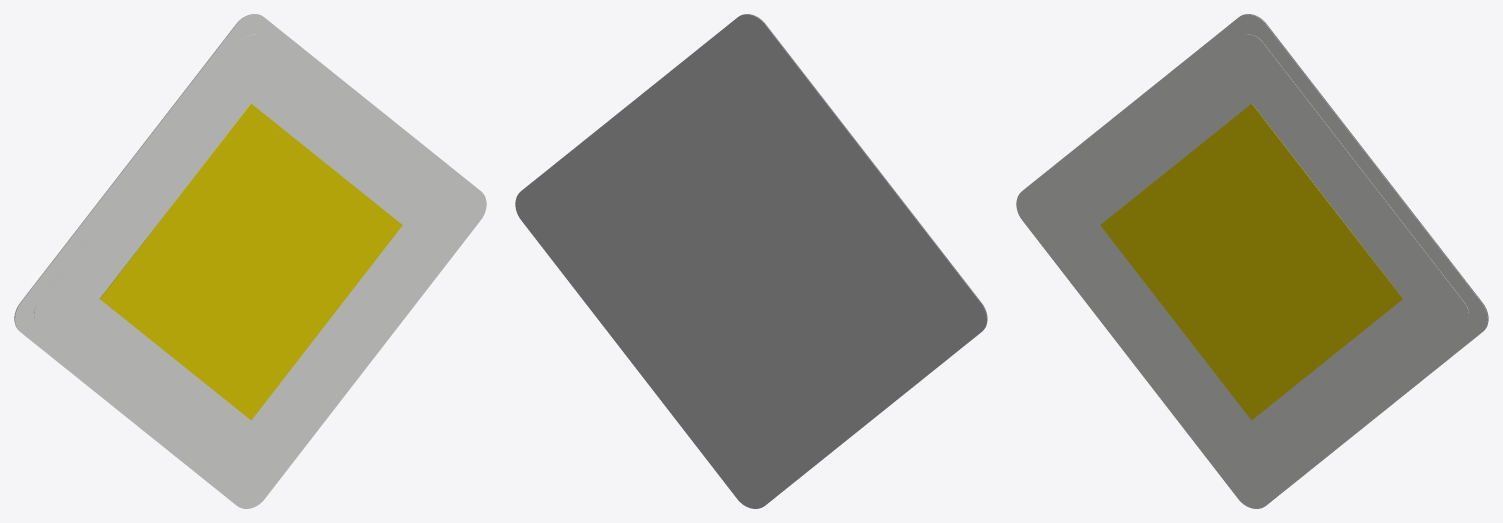
3 renders of one model, left to right at view 1: azimuth 30°, elevation 25°; view 2: azimuth 150°, elevation 25°; view 3: azimuth 330°, elevation 25°, orthographic.
Visible parts, largest first — view 1: AB6_p01, AB6_p03, AB6_p00; view 2: AB6_dos; view 3: AB6_p01, AB6_p03, AB6_p00.
Boxes of the visible parts, left/top/right/bottom form: AB6_p01: left=34, top=34, right=467, bottom=489; AB6_p03: left=100, top=103, right=402, bottom=420; AB6_p00: left=15, top=14, right=486, bottom=508; AB6_dos: left=515, top=14, right=986, bottom=508; AB6_p01: left=1035, top=34, right=1468, bottom=489; AB6_p03: left=1100, top=103, right=1402, bottom=420; AB6_p00: left=1016, top=14, right=1487, bottom=508.
Bounding box in the file's own units: 0.7 × 0.6999 × 0.0031.
